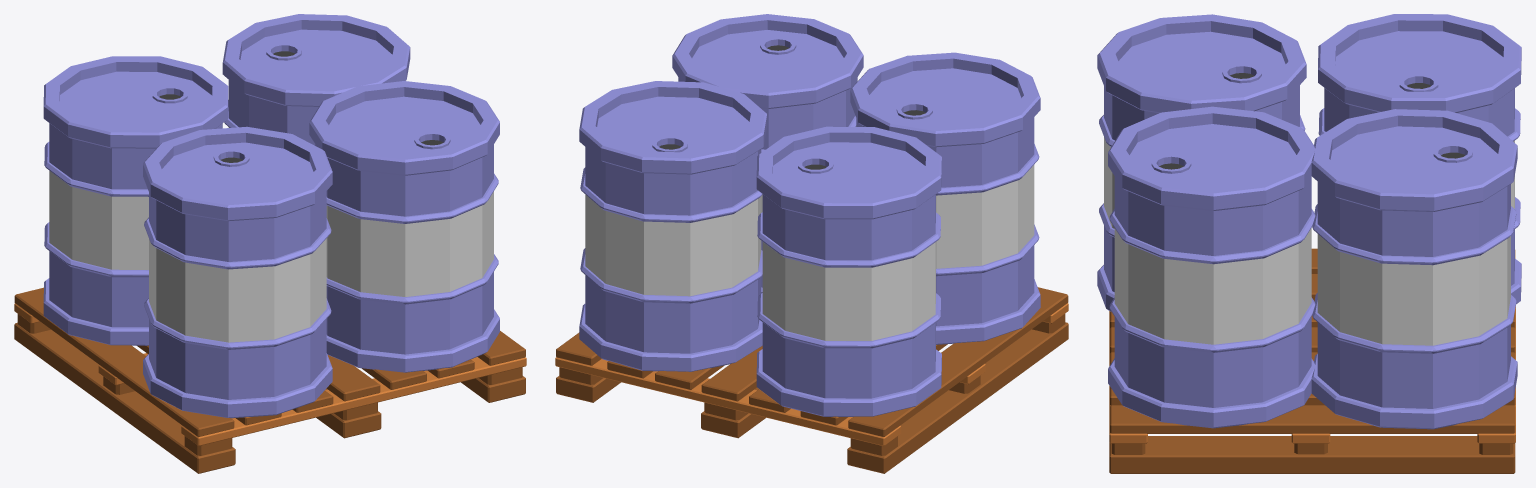
File: Barrel B.fbx
3 renders of one model, left to right at view 1: azimuth 30°, elevation 25°; view 2: azimuth 150°, elevation 25°; view 3: azimuth 270°, elevation 25°, orthographic. The views are drawn at different scales.
Visible parts, largest first — view 1: Barrel B; view 2: Barrel B; view 3: Barrel B.
Boxes of the visible parts, x1,y1,x2,y2 form: Barrel B: (14, 14, 526, 473); Barrel B: (555, 14, 1068, 473); Barrel B: (1097, 14, 1521, 473).
Size of the model in its own units: 247 by 179 by 242.
